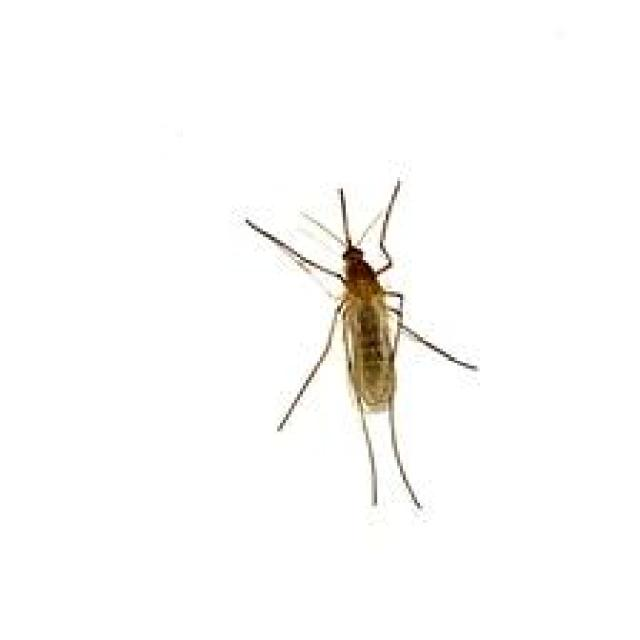Culex: (243, 176, 480, 510)
